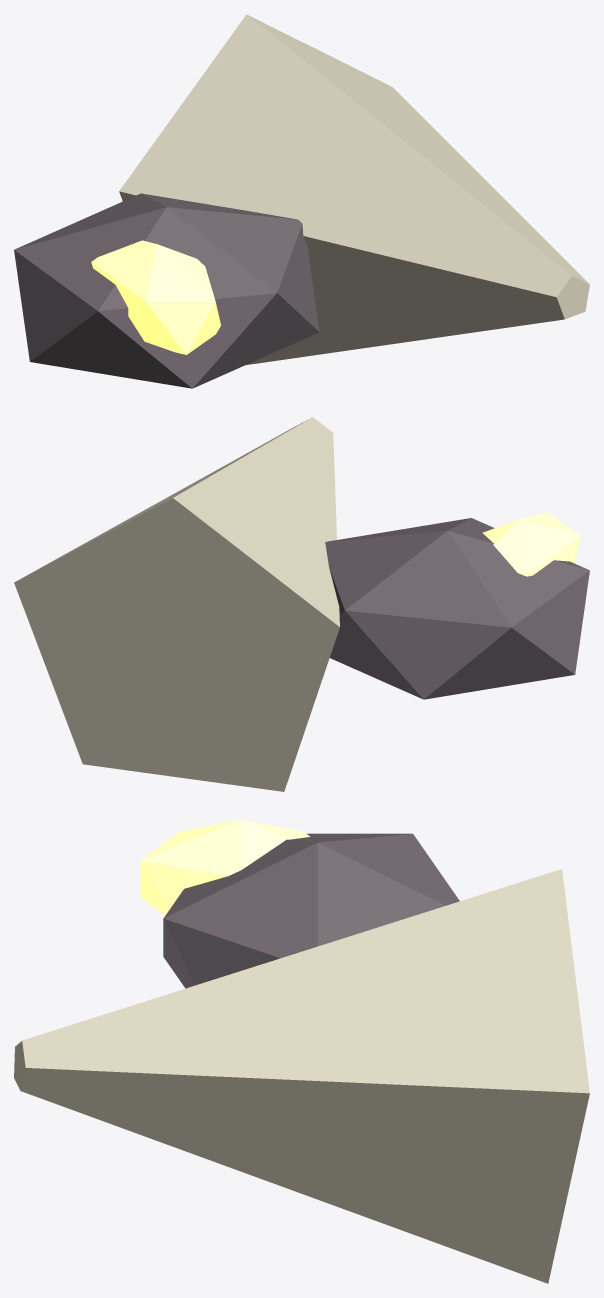
File: enemy_bog_bulwark_fragment_beak.glb
The picture shows the model from 3 angles, top to bottom: view 1: azimuth 30°, elevation 25°; view 2: azimuth 150°, elevation 25°; view 3: azimuth 270°, elevation 25°; orthographic projection. The views are drawn at different scales.
Parts seen in each view (by area): view 1: Fragment_Beak_Hook, Fragment_Beak_Root, Fragment_Beak_Lure; view 2: Fragment_Beak_Hook, Fragment_Beak_Root, Fragment_Beak_Lure; view 3: Fragment_Beak_Hook, Fragment_Beak_Root, Fragment_Beak_Lure.
Part boxes in pixels (<box>): Fragment_Beak_Hook: <box>119,14,589,364</box>; Fragment_Beak_Root: <box>14,193,319,388</box>; Fragment_Beak_Lure: <box>91,240,220,354</box>; Fragment_Beak_Hook: <box>14,417,339,791</box>; Fragment_Beak_Root: <box>325,518,589,699</box>; Fragment_Beak_Lure: <box>482,512,580,576</box>; Fragment_Beak_Hook: <box>14,869,589,1283</box>; Fragment_Beak_Root: <box>163,833,459,988</box>; Fragment_Beak_Lure: <box>140,820,310,915</box>.
Bounding box in the file's own units: 0.3312 × 0.2069 × 0.3016.
